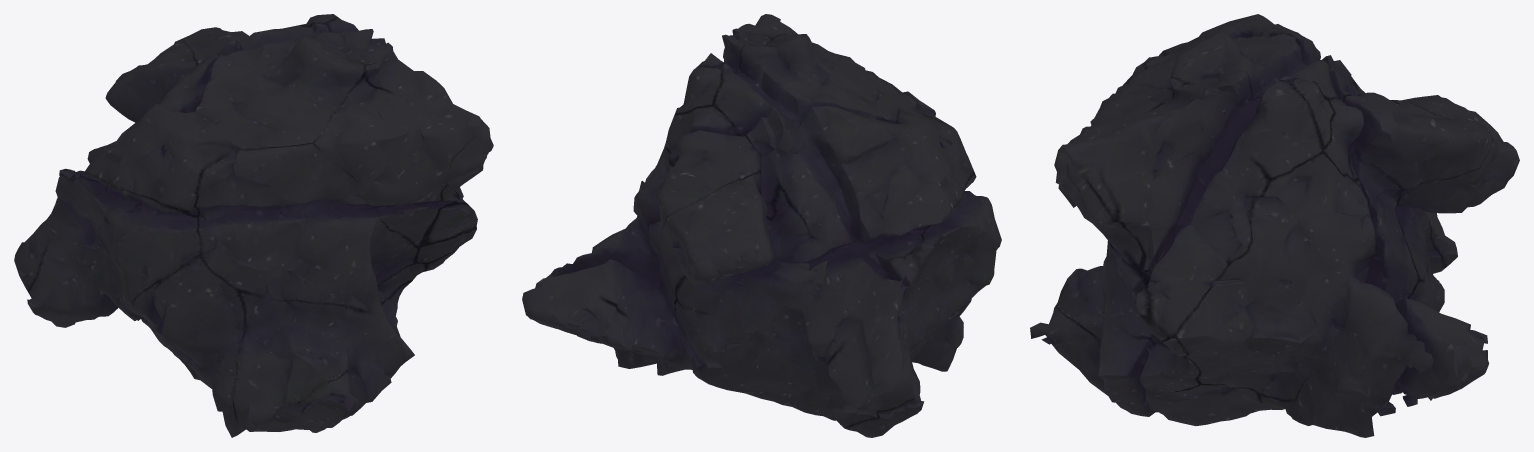
The model's file is rock-large-jagged.glb.
3 views of the same model, side by side, from view 1: azimuth 30°, elevation 25°; view 2: azimuth 150°, elevation 25°; view 3: azimuth 270°, elevation 25° (orthographic). The views are drawn at different scales.
Parts seen in each view (by area): view 1: Rock_A_LargeJagged; view 2: Rock_A_LargeJagged; view 3: Rock_A_LargeJagged.
Boxes of the visible parts, x1=… form: Rock_A_LargeJagged: x1=14, y1=14, x2=493, y2=437; Rock_A_LargeJagged: x1=522, y1=14, x2=1001, y2=437; Rock_A_LargeJagged: x1=1030, y1=14, x2=1519, y2=437.
Bounding box in the file's own units: 1.97 × 1.91 × 2.06.
Materials: 1 (1 with a texture image).
